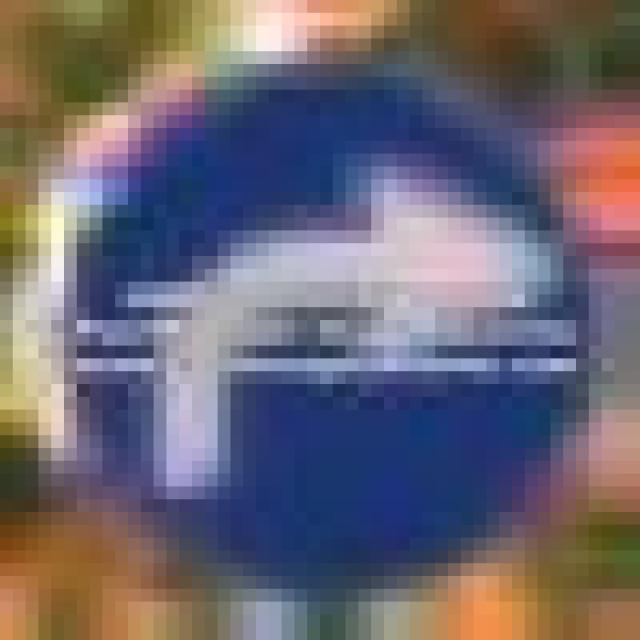railway_crossing: (51, 64, 576, 550)
